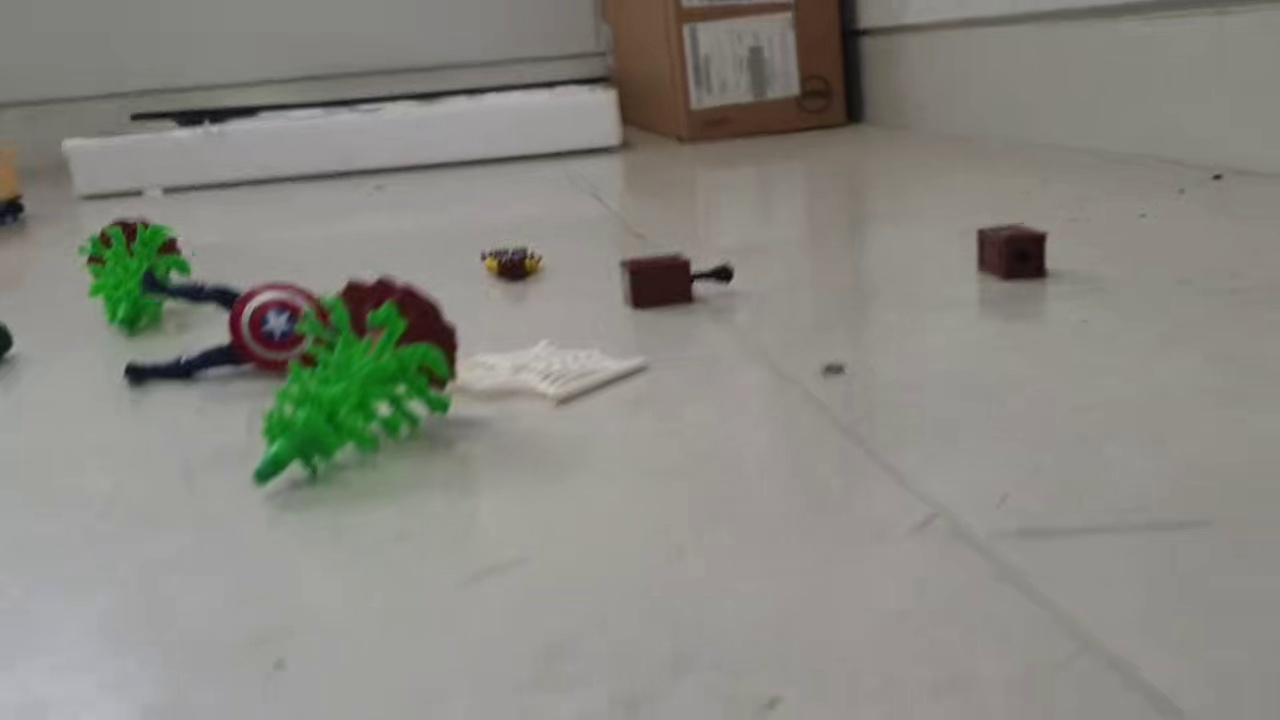box: (615, 251, 737, 312), (974, 220, 1054, 285)
people: (120, 268, 334, 390), (478, 246, 547, 283)
tree: (251, 277, 458, 490), (81, 218, 195, 339)
web: (447, 336, 650, 406)
